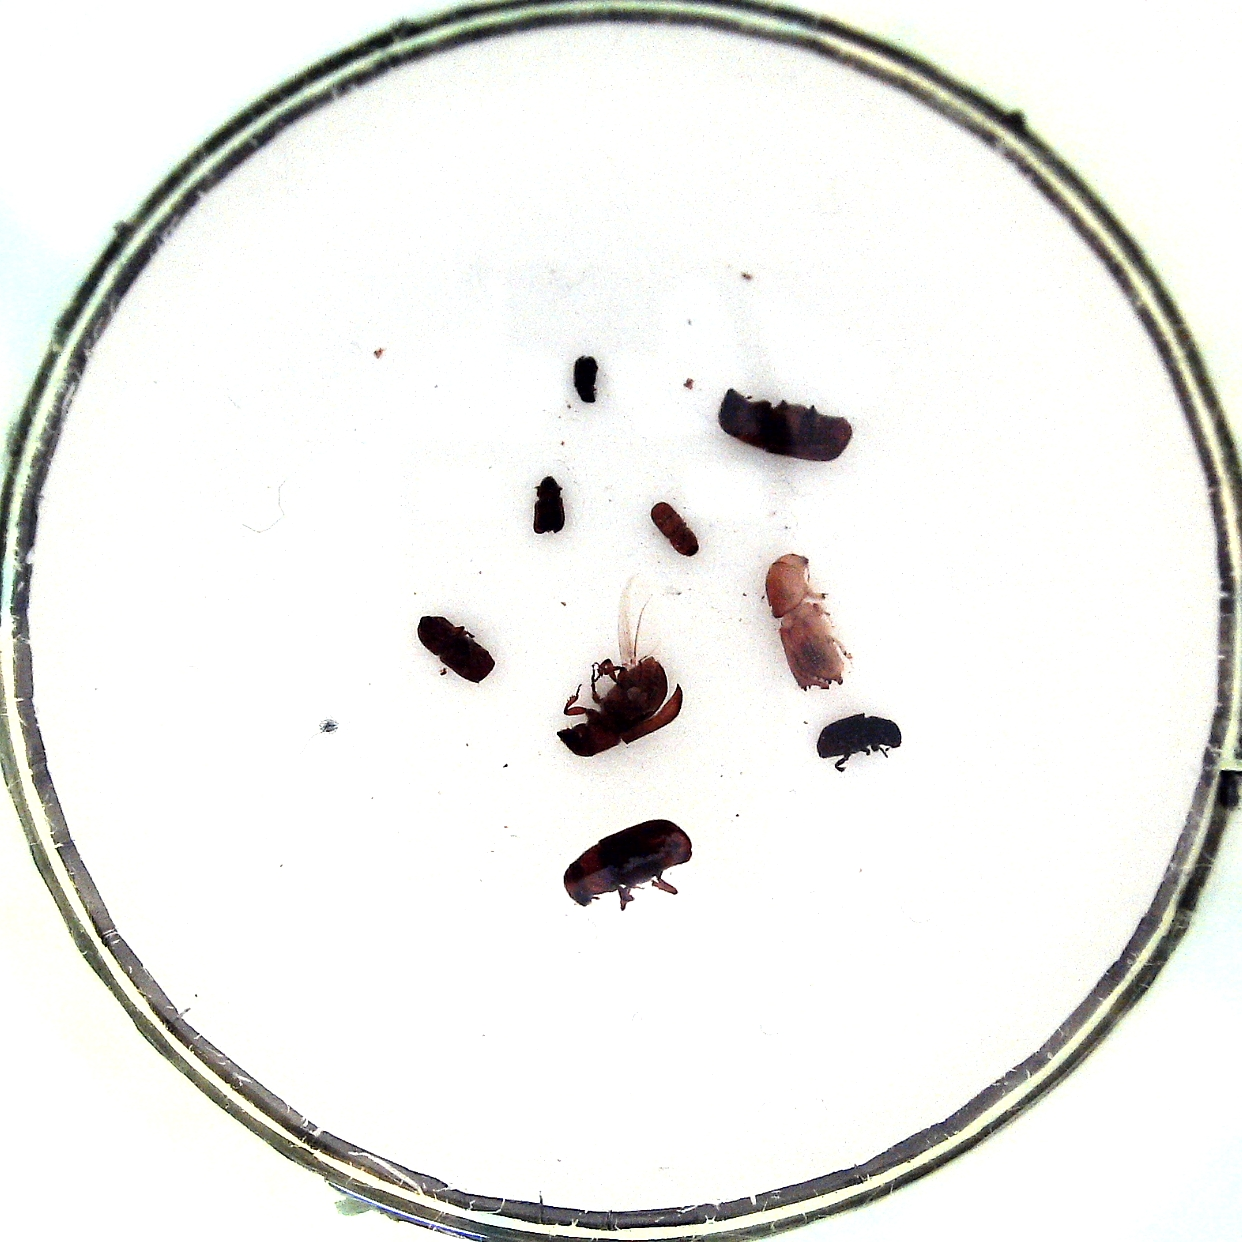Boerner: (765, 553, 847, 692)
Leconte: (563, 818, 693, 906), (556, 656, 666, 757), (719, 389, 852, 463)
acuminatus: (574, 355, 598, 404)
armandi: (815, 714, 902, 759)
coleoptera: (649, 500, 699, 556), (535, 477, 565, 535)
linnaeus: (417, 615, 495, 684)
